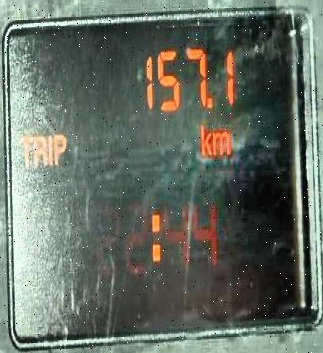-: (206, 94, 212, 109)
1: (224, 48, 234, 106), (144, 54, 153, 109)
5: (156, 48, 179, 110)
7: (185, 46, 206, 106)
X: (149, 209, 161, 263), (211, 129, 230, 156), (18, 134, 32, 169), (32, 134, 47, 166), (52, 132, 66, 165), (199, 123, 211, 156), (47, 132, 52, 166)
